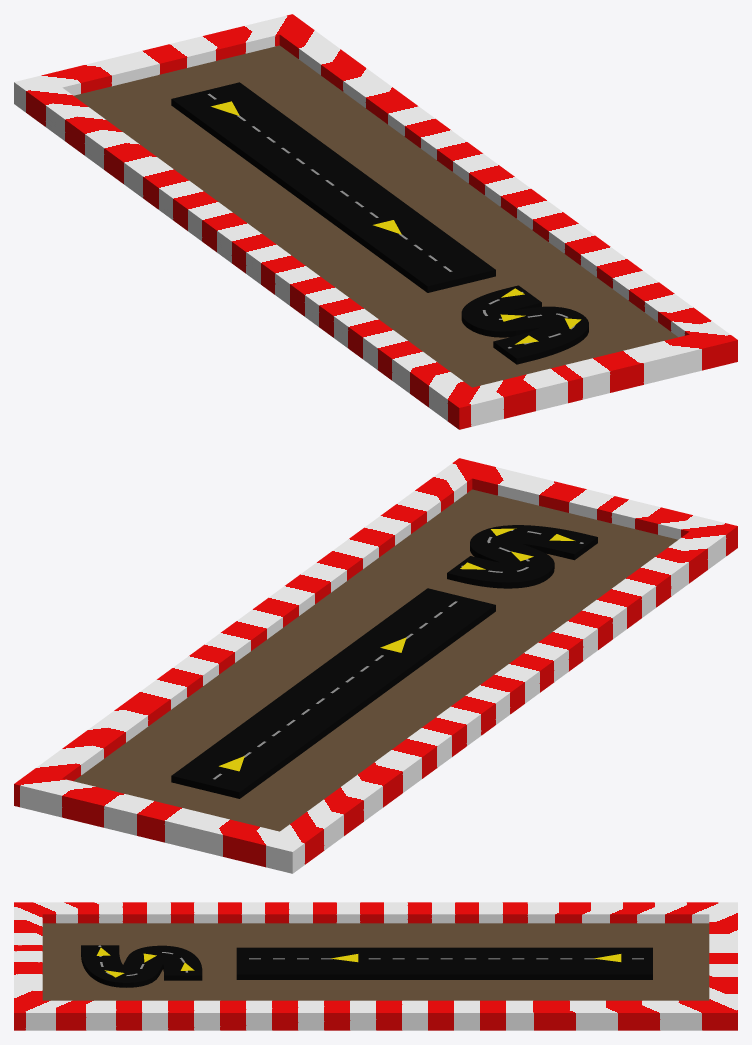
Rendered from alf_Hdown.FBX.
3 views of the same model, one above another, from view 1: azimuth 30°, elevation 25°; view 2: azimuth 150°, elevation 25°; view 3: azimuth 270°, elevation 25° (orthographic). The views are drawn at different scales.
Parts seen in each view (by area): view 1: alf_coll, alf_floor, alf; view 2: alf_coll, alf_floor, alf; view 3: alf_coll, alf_floor, alf, Line0.
Part boxes in pixels (left/top/right/bottom): alf_coll: left=14, top=14, right=737, bottom=429; alf_floor: left=74, top=45, right=677, bottom=387; alf: left=171, top=82, right=588, bottom=364; alf_coll: left=14, top=458, right=737, bottom=873; alf_floor: left=74, top=489, right=677, bottom=831; alf: left=171, top=525, right=597, bottom=798; alf_coll: left=14, top=902, right=737, bottom=1030; alf_floor: left=42, top=923, right=709, bottom=1000; alf: left=81, top=945, right=652, bottom=987; Line0: left=249, top=958, right=643, bottom=959.
Size of the model in its own units: 437 by 32.76 by 1210.
